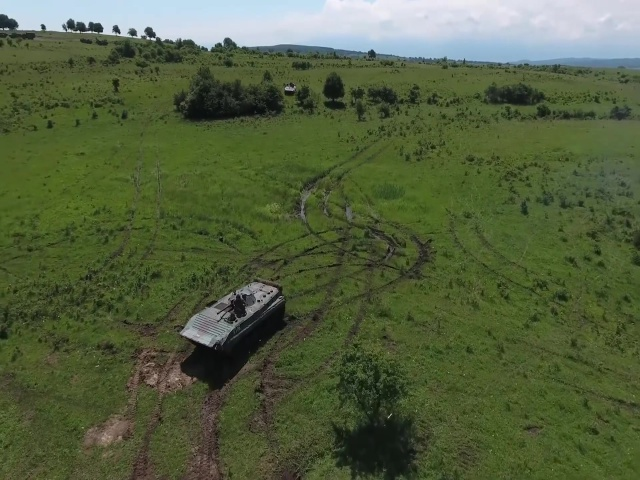vehicle: (178, 280, 287, 352), (283, 81, 297, 97)
